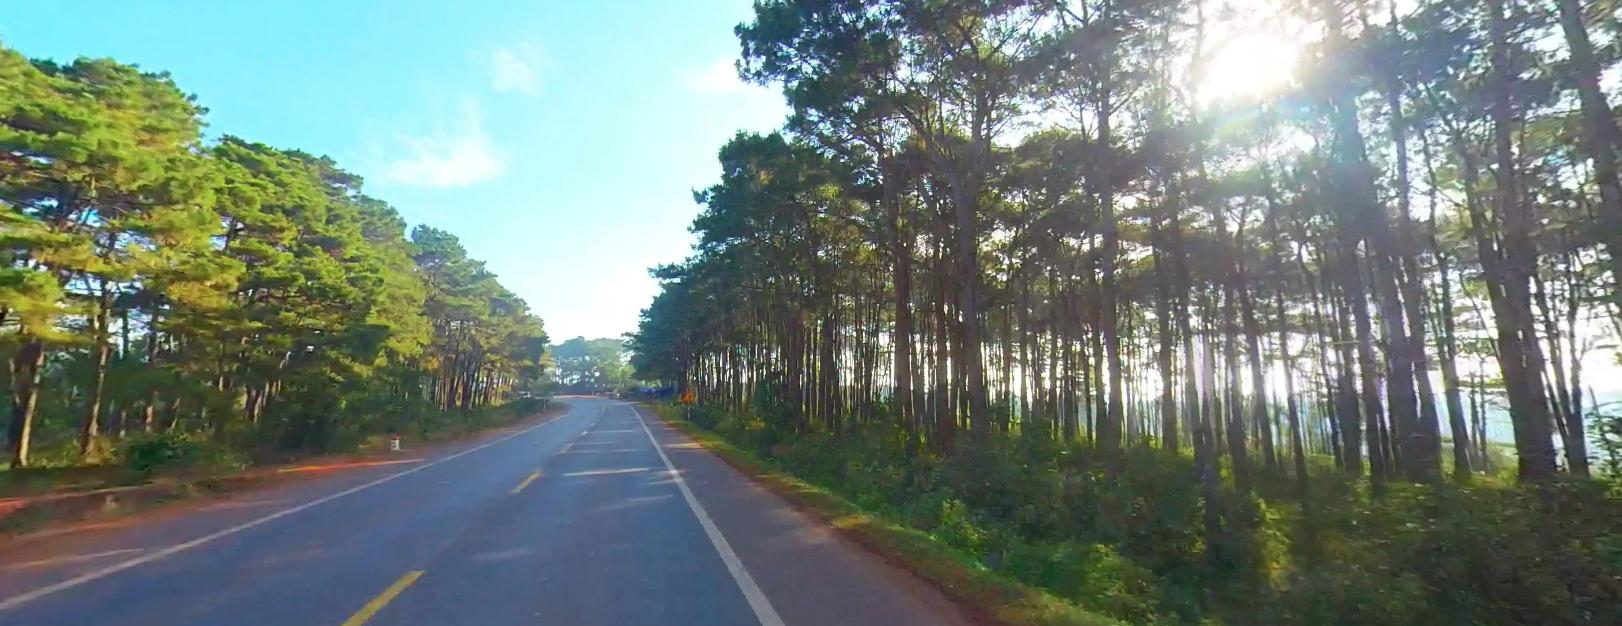Nguy hiem: (680, 390, 693, 401)
